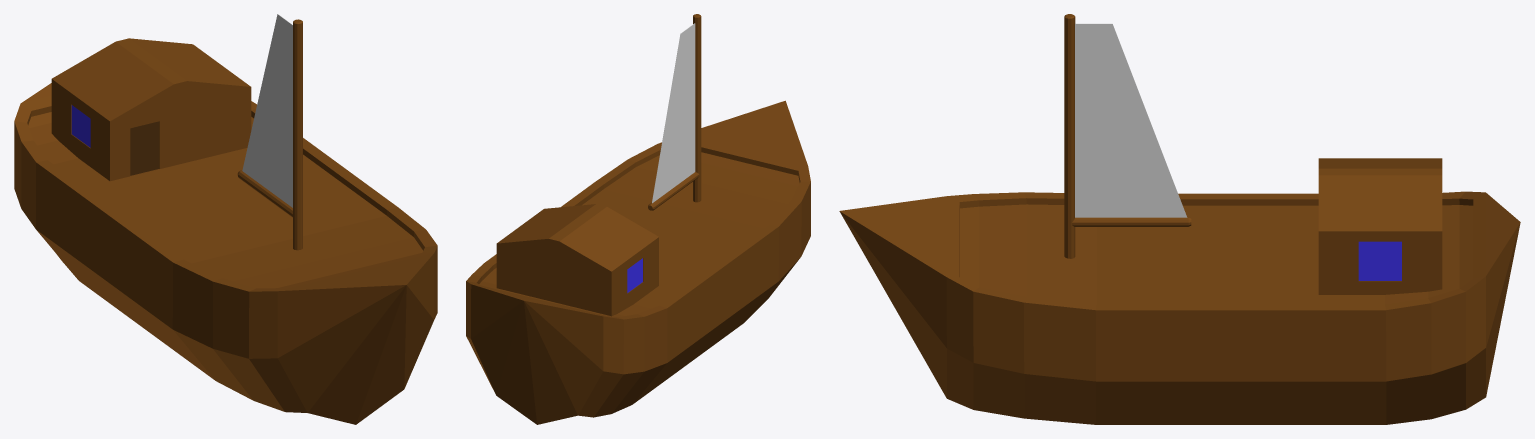
The model's file is boat.fbx.
3 renders of one model, left to right at view 1: azimuth 30°, elevation 25°; view 2: azimuth 150°, elevation 25°; view 3: azimuth 270°, elevation 25°, orthographic. The views are drawn at different scales.
Visible parts, largest first — view 1: Boat; view 2: Boat; view 3: Boat.
Part boxes in pixels (x1,y1,x2,y2): Boat: (14, 14, 437, 424); Boat: (466, 14, 810, 424); Boat: (839, 14, 1520, 424).
Bounding box in the file's own units: 1.9 × 2.91 × 4.7.
